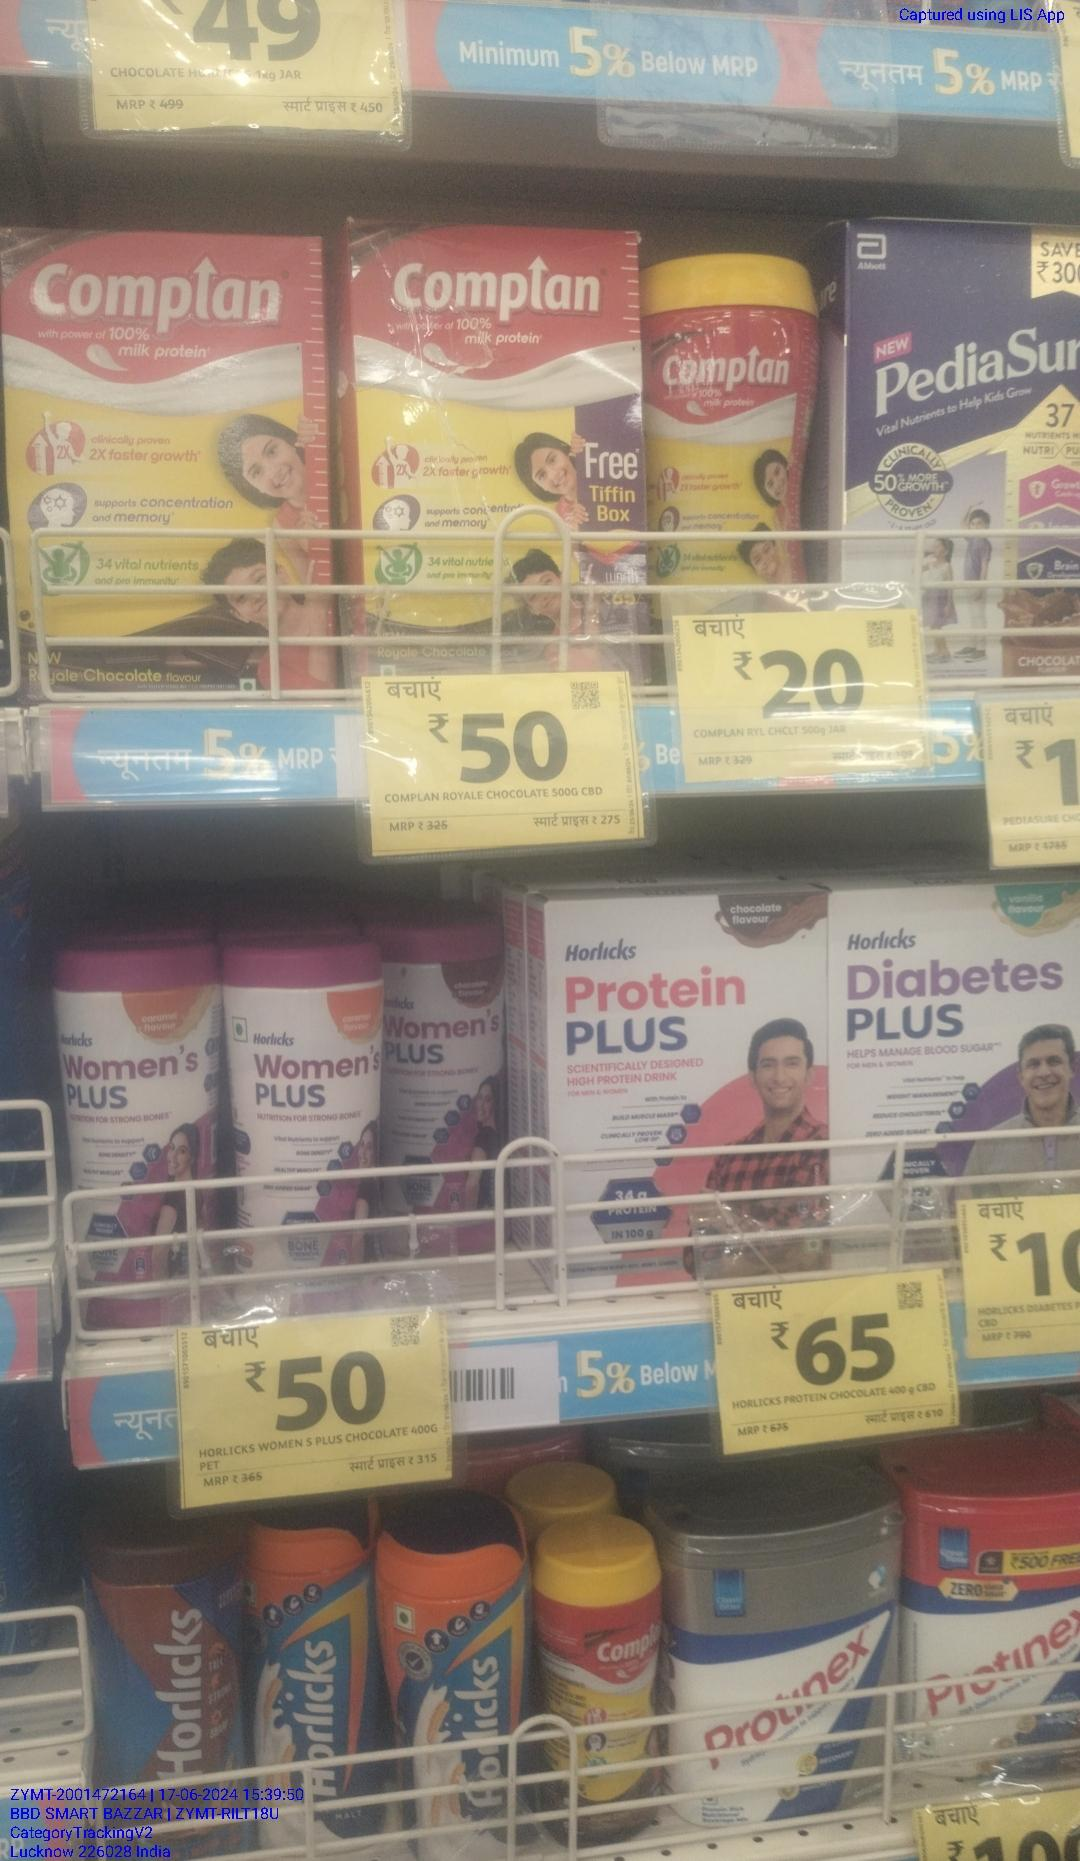COMPLAN_CHOCOLATE_500_GMS_JAR: (649, 258, 824, 608), (543, 1547, 663, 1847)
COMPLAN_CHOCOLATE_500_GMS_PACK: (1, 221, 327, 689), (354, 221, 639, 661)
HORLICK_CHOCOLATE_500_G_JAR: (100, 1544, 243, 1861)
HORLICK_CLASSIC_MALT_500_G_JAR: (388, 1523, 530, 1844), (262, 1514, 375, 1852)
PROTINEX_ORIGINAL_400_G_JAR: (674, 1529, 908, 1811)
